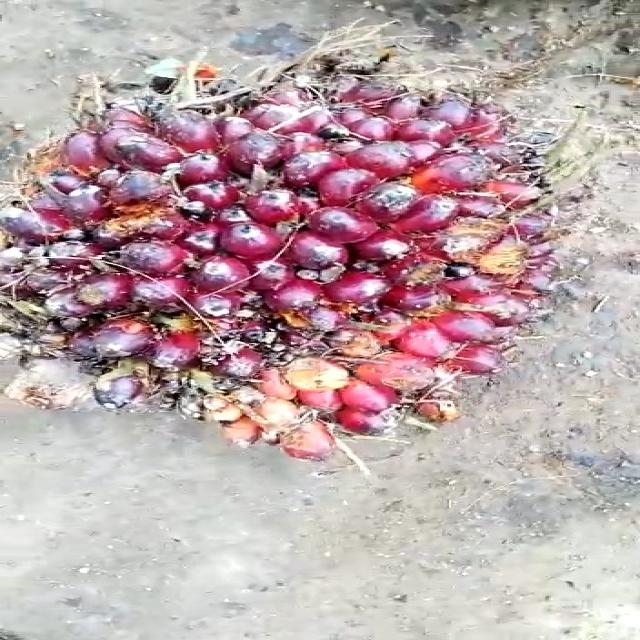palm oil: (0, 61, 558, 464)
